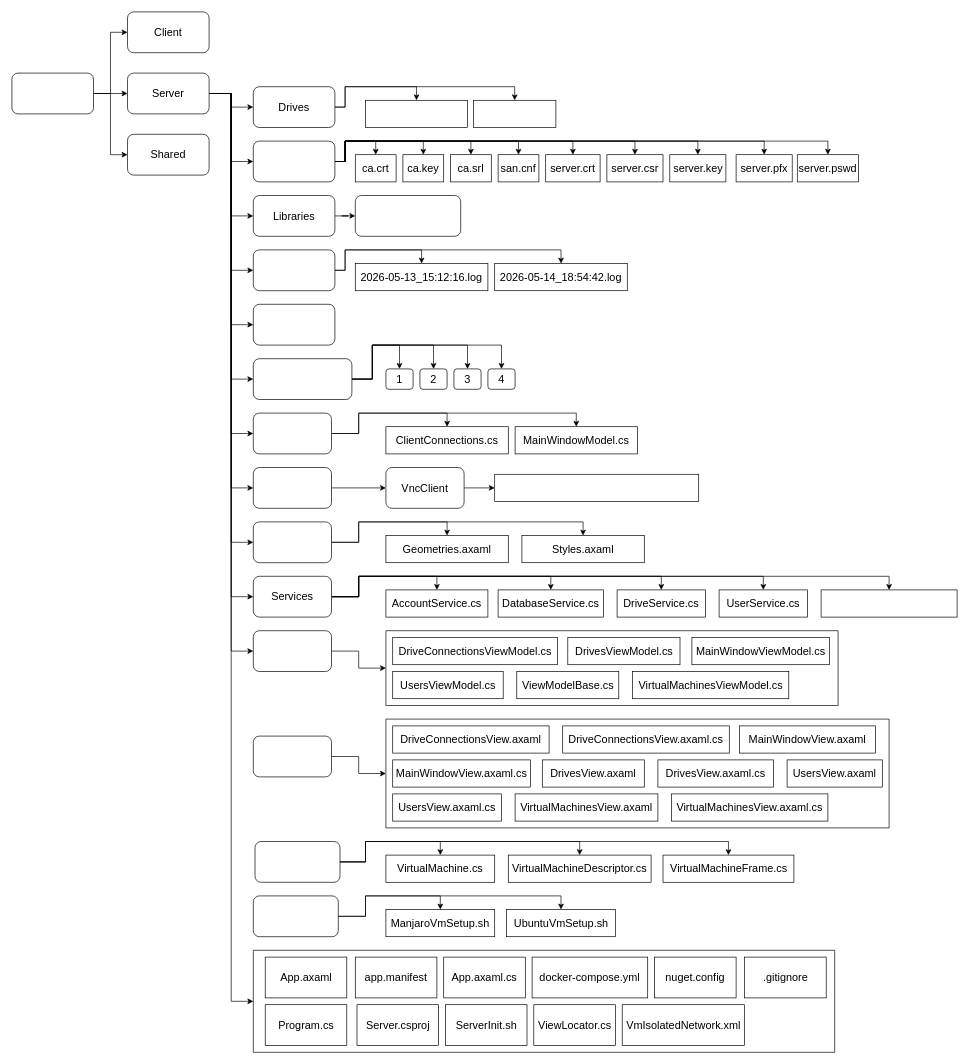
This 969x1064 diagram has some shape labels left out. The shapes that lost their labels are listed below. From the top down, each one's centre as x and y in pixels, then its label:
At point 52,93: "תיקיית המערכת".
At point 416,114: "DriveDescriptor.cs".
At point 514,114: "ItemStream.cs".
At point 294,161: "Keys".
At point 408,215: "MarcusW.VncClient".
At point 294,270: "Logs".
At point 294,324: "MiniCoffeeOs".
At point 302,379: "MiniCoffeeOsBuilds".
At point 292,433: "Models".
At point 292,487: "NugetLocal".
At point 596,488: "MarcusW.VncClient.1.0.0-alpha5.nupkg".
At point 292,542: "Resources".
At point 888,603: "VirtualMachineService.cs".
At point 292,651: "ViewModels".
At point 292,756: "Views".
At point 297,861: "VirtualMachines".
At point 295,916: "VmSetupScripts".
